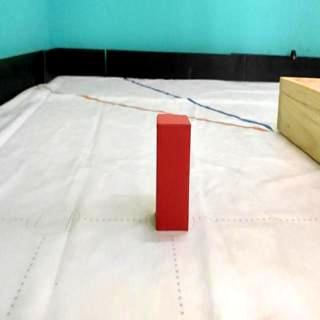redbox: (155, 112, 191, 231)
